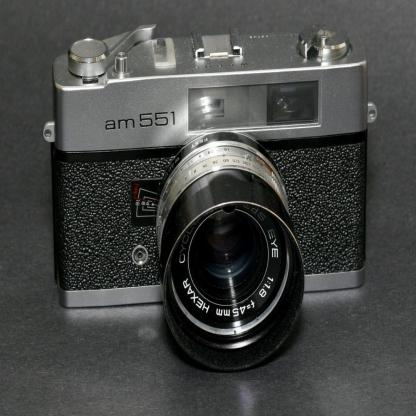Camera: (49, 20, 371, 360)
